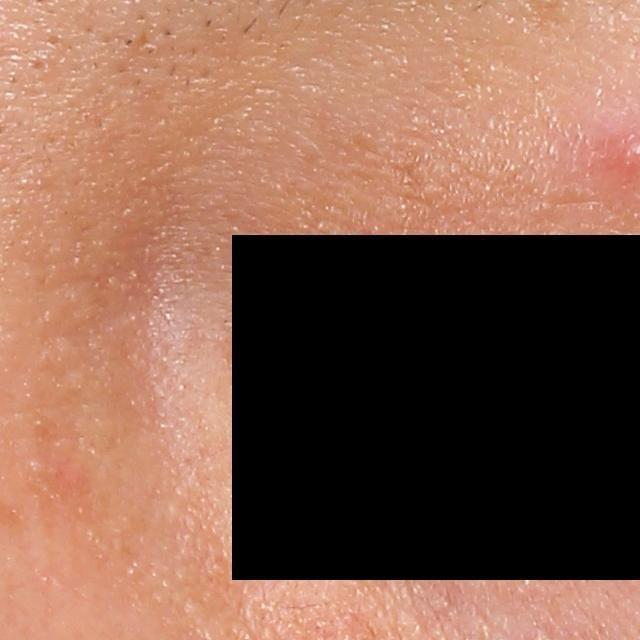comedo: (30, 55, 49, 73)
